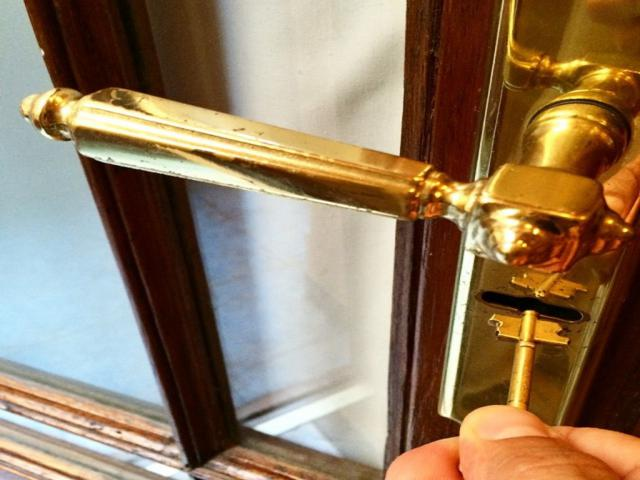Door-handle: (18, 71, 639, 280)
